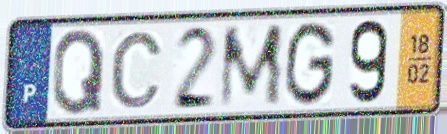2: (166, 25, 222, 112)
9: (347, 17, 390, 106)
C: (108, 29, 165, 111)
G: (281, 18, 338, 109)
M: (216, 20, 286, 112)
Q: (51, 26, 108, 118)
